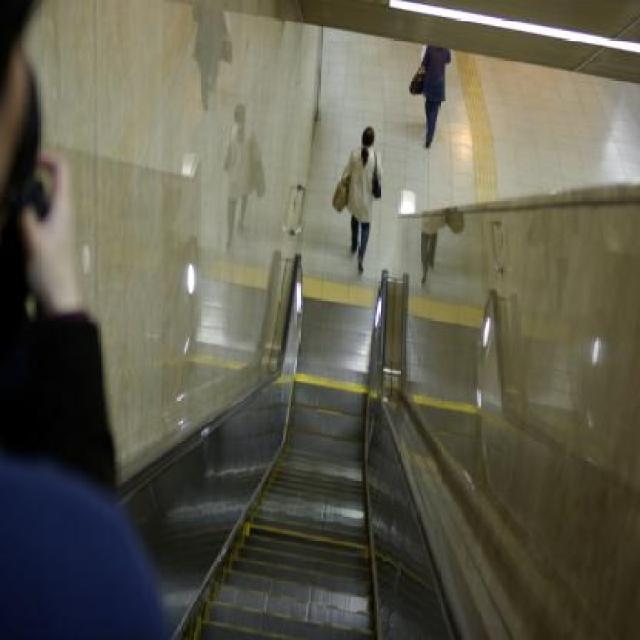stair: (115, 252, 454, 640)
